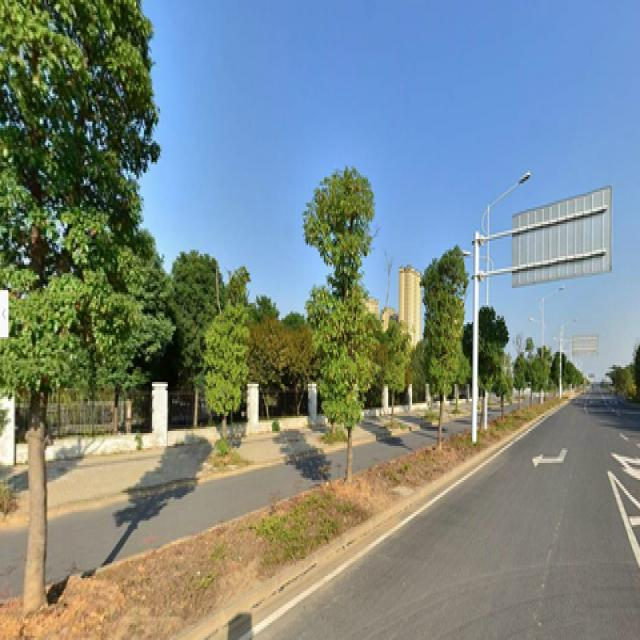cinn: (319, 170, 373, 508), (426, 254, 462, 452), (204, 310, 241, 452)
